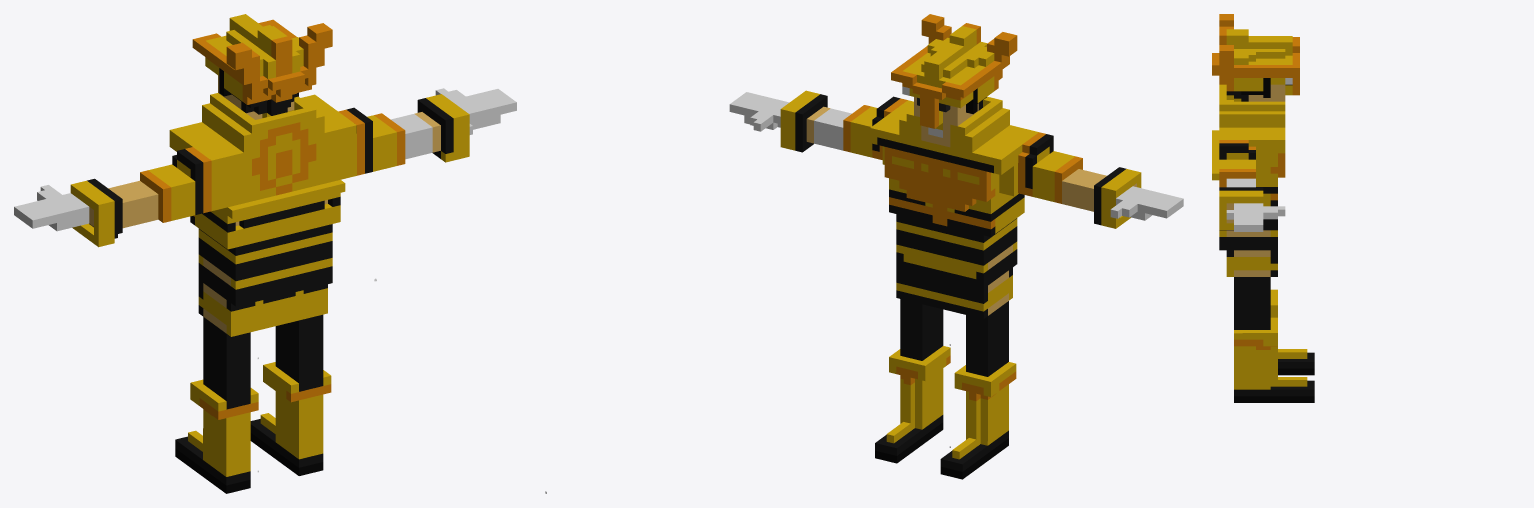
File: Char.fbx
3 renders of one model, left to right at view 1: azimuth 30°, elevation 25°; view 2: azimuth 150°, elevation 25°; view 3: azimuth 270°, elevation 25°, orthographic. The views are drawn at different scales.
Parts seen in each view (by area): view 1: Chunk__2_2_2__2, Chunk__2_1_2_, Chunk__2_1_2__1, Chunk__2_3_2__13, Chunk__1_2_2__2, Chunk__2_0_2__15, Chunk__3_2_2__9, Chunk__1_2_2__3, Chunk__1_0_2__19, Chunk__2_2_2__8, Chunk__0_2_2__4, Chunk__2_2_2__13 (+15 smaller); view 2: Chunk__2_2_2__2, Chunk__2_1_2_, Chunk__2_1_2__1, Chunk__2_3_2__13, Chunk__2_0_2__15, Chunk__1_2_2__2, Chunk__3_2_2__9, Chunk__1_0_2__19, Chunk__2_2_2__8, Chunk__0_2_2__4, Chunk__2_2_2__13, Chunk__1_2_2__3 (+14 smaller); view 3: Chunk__1_2_2__2, Chunk__1_0_2__19, Chunk__1_1_2_, Chunk__2_3_2__13, Chunk__1_2_2__3, Chunk__1_3_2__13, Chunk__1_0_2__18, Chunk__0_2_2__4, Chunk__1_2_2__13, Chunk__1_0_2__20, Chunk__1_1_2__18, Chunk__2_2_2__13 (+7 smaller).
Boxes of the visible parts, left/top/right/bottom form: Chunk__2_2_2__2: left=169, top=93, right=312, bottom=232; Chunk__2_1_2_: left=198, top=254, right=308, bottom=336; Chunk__2_1_2__1: left=190, top=213, right=308, bottom=281; Chunk__2_3_2__13: left=202, top=17, right=308, bottom=91; Chunk__1_2_2__2: left=294, top=94, right=356, bottom=212; Chunk__2_0_2__15: left=190, top=379, right=258, bottom=476; Chunk__3_2_2__9: left=70, top=178, right=158, bottom=247; Chunk__1_2_2__3: left=338, top=107, right=405, bottom=179; Chunk__1_0_2__19: left=271, top=362, right=331, bottom=459; Chunk__2_2_2__8: left=156, top=147, right=227, bottom=218; Chunk__0_2_2__4: left=414, top=94, right=469, bottom=162; Chunk__2_2_2__13: left=210, top=61, right=303, bottom=123; Chunk__2_2_2__2: left=914, top=96, right=1038, bottom=221; Chunk__2_1_2_: left=918, top=241, right=1017, bottom=318; Chunk__2_1_2__1: left=918, top=197, right=1024, bottom=265; Chunk__2_3_2__13: left=914, top=23, right=1017, bottom=97; Chunk__2_0_2__15: left=954, top=362, right=1016, bottom=446; Chunk__1_2_2__2: left=870, top=100, right=917, bottom=203; Chunk__3_2_2__9: left=1062, top=167, right=1141, bottom=228; Chunk__1_0_2__19: left=889, top=349, right=943, bottom=430; Chunk__2_2_2__8: left=999, top=132, right=1067, bottom=200; Chunk__0_2_2__4: left=780, top=90, right=830, bottom=152; Chunk__2_2_2__13: left=914, top=70, right=1002, bottom=152; Chunk__1_2_2__3: left=843, top=96, right=907, bottom=164; Chunk__1_2_2__2: left=1212, top=101, right=1285, bottom=193; Chunk__1_0_2__19: left=1234, top=320, right=1277, bottom=389; Chunk__1_1_2_: left=1219, top=230, right=1277, bottom=276; Chunk__2_3_2__13: left=1212, top=14, right=1285, bottom=71; Chunk__1_2_2__3: left=1219, top=140, right=1263, bottom=187; Chunk__1_3_2__13: left=1219, top=45, right=1285, bottom=77; Chunk__1_0_2__18: left=1234, top=297, right=1270, bottom=329; Chunk__0_2_2__4: left=1219, top=187, right=1263, bottom=229; Chunk__1_2_2__13: left=1219, top=78, right=1285, bottom=111; Chunk__1_0_2__20: left=1234, top=377, right=1285, bottom=402; Chunk__1_1_2__18: left=1234, top=277, right=1270, bottom=296; Chunk__2_2_2__13: left=1212, top=72, right=1285, bottom=101.
Size of the model in its own units: 651 by 533 by 420.
